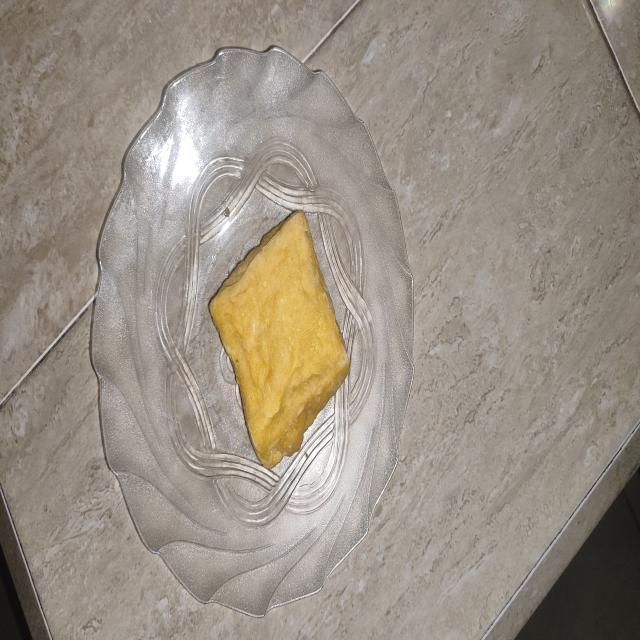tahu_goreng: (210, 211, 350, 468)
